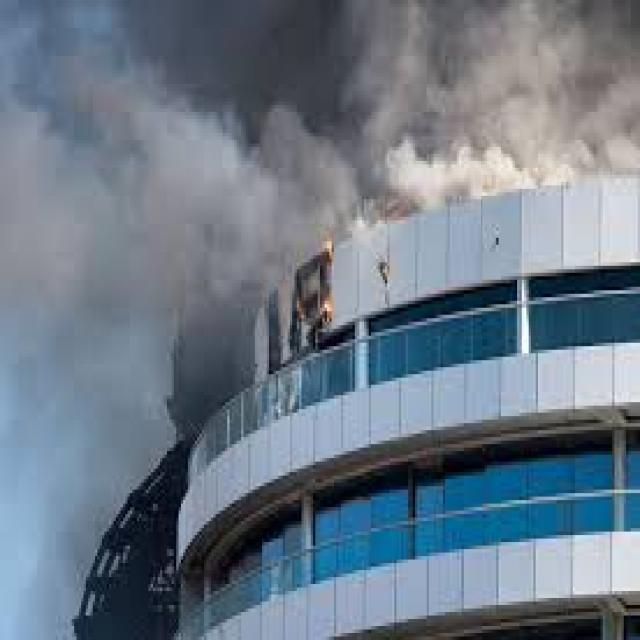Smoke: (67, 3, 628, 235)
